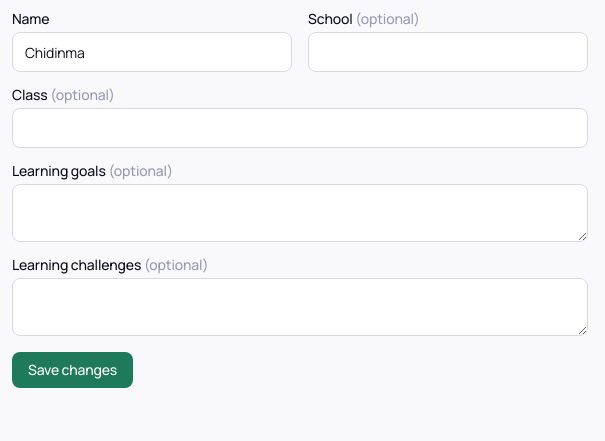
Test: AddStudentForm (edit mode) › shows an edit-specific error message when updateStudent fails
The image size is (605, 441).
Click the button "Save changes". click: (72, 370)
box: x1=12 y1=352 x2=133 y2=388
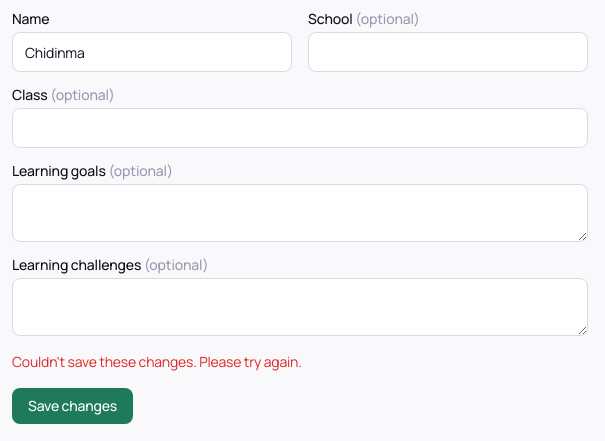
Expected: the message shows "Couldn't save", x1=12 y1=352 x2=302 y2=371
